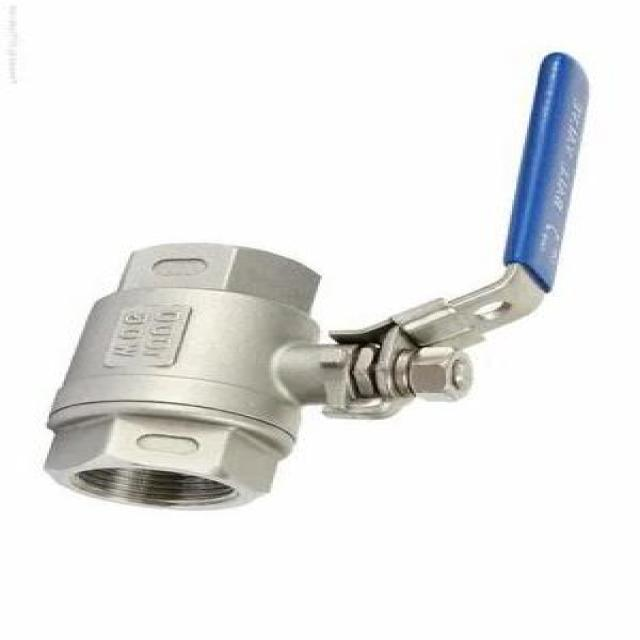opened_valve: (28, 49, 595, 513)
